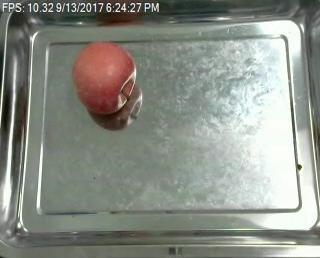apple: (73, 42, 136, 113)
